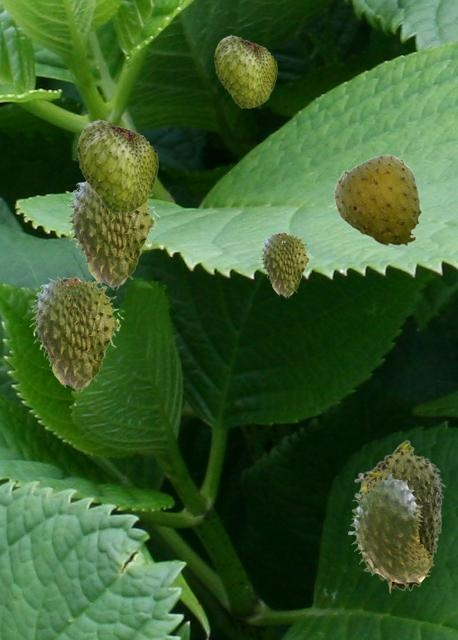guyabano: (354, 439, 445, 590), (29, 276, 123, 391), (65, 181, 159, 289), (348, 473, 433, 592), (332, 154, 421, 247), (77, 118, 157, 212), (214, 34, 276, 107), (259, 232, 311, 297)
